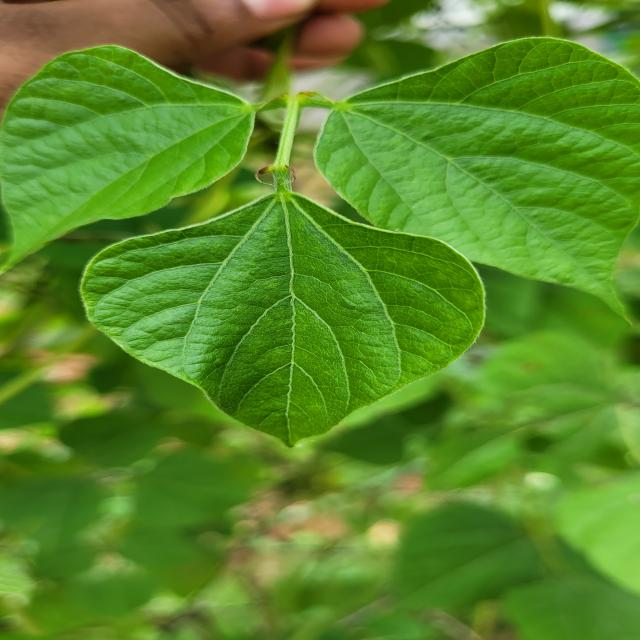Dolicos bean_healthy: (88, 199, 483, 448), (316, 35, 640, 325), (0, 38, 260, 282), (404, 500, 553, 610)
